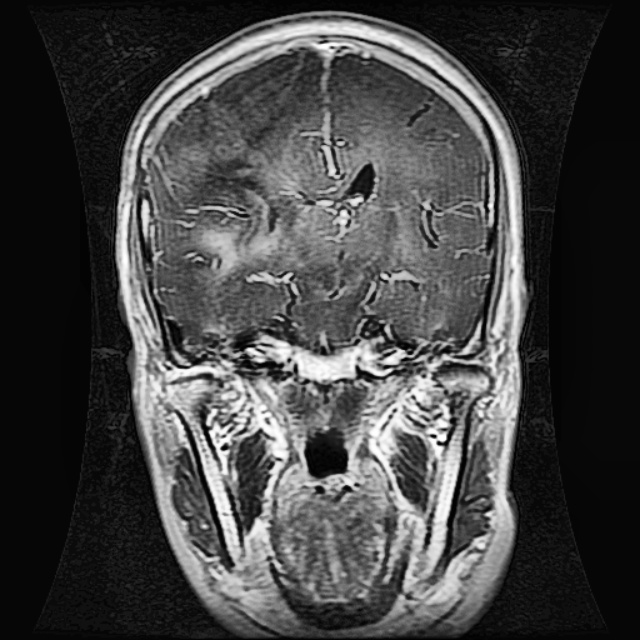Meningioma: (200, 172, 282, 275)
